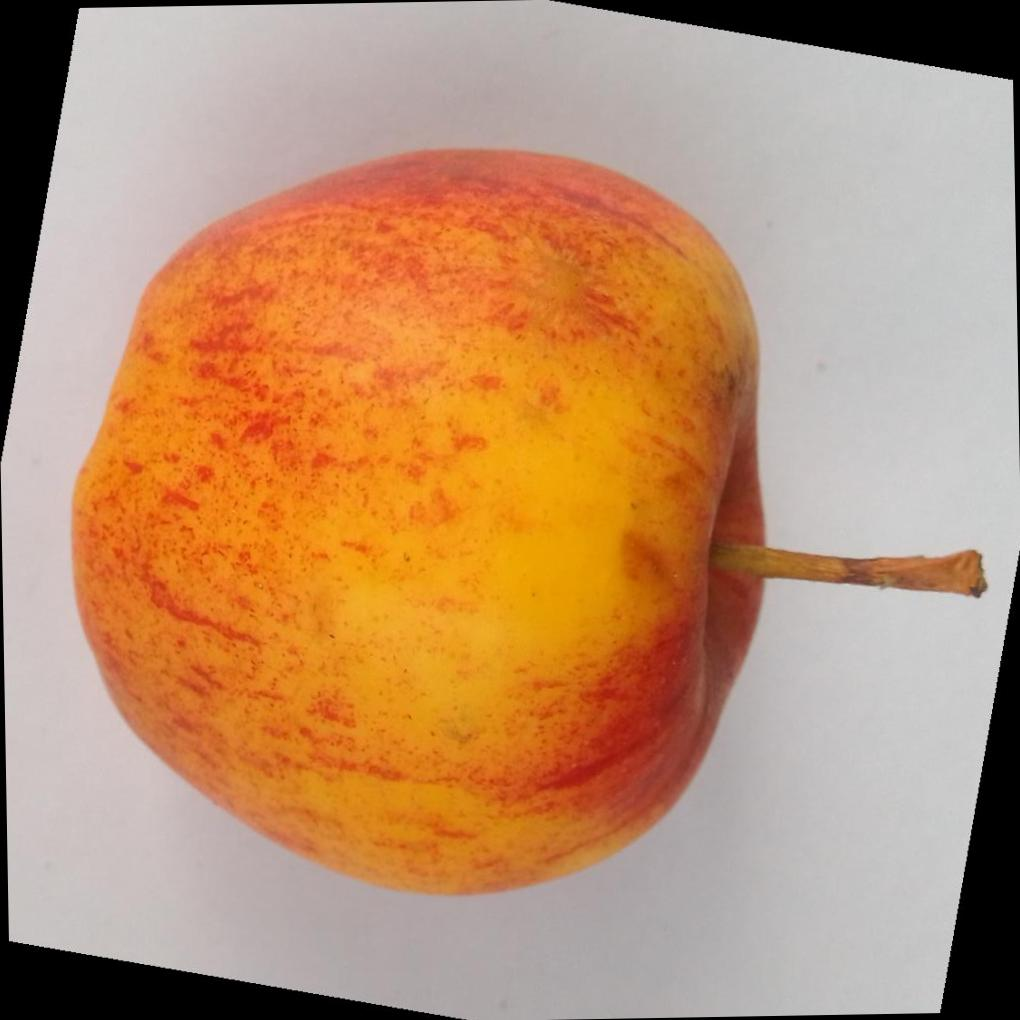FreshGuava: (64, 145, 761, 897)
